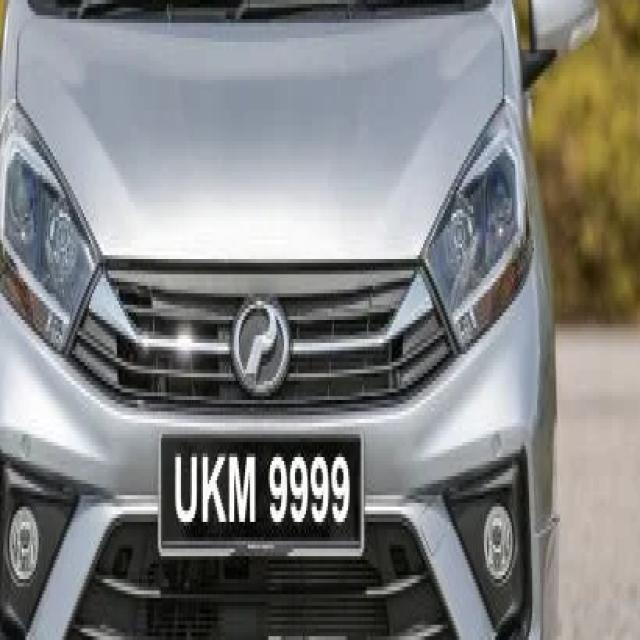car-plate: (152, 394, 370, 576)
